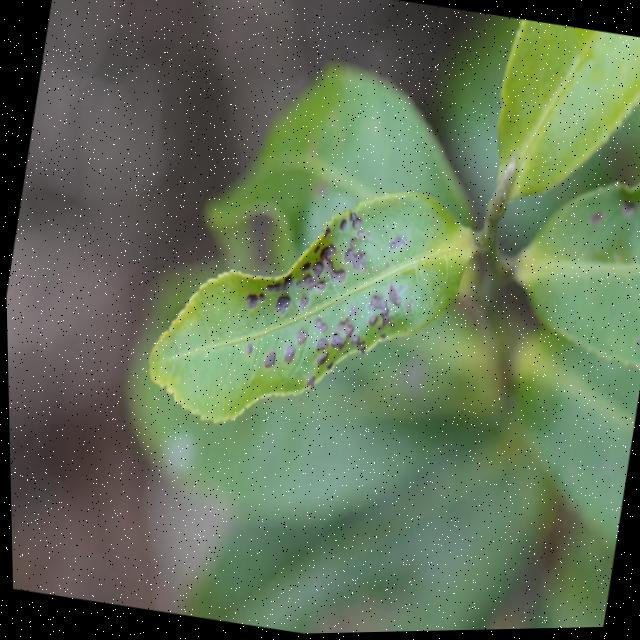Tea red scab: (232, 199, 428, 381)
